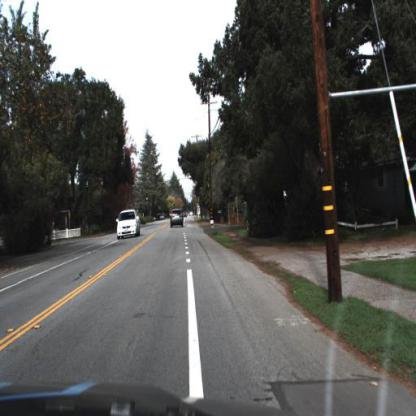car: (115, 208, 142, 242), (169, 207, 186, 231)
